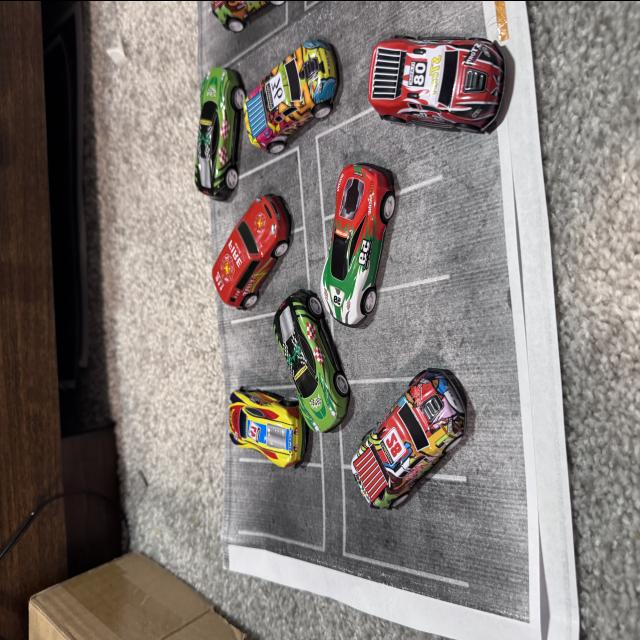car: (342, 13, 524, 163), (316, 152, 416, 376), (349, 360, 475, 536), (276, 257, 348, 443), (198, 187, 304, 309), (160, 66, 244, 218), (228, 44, 356, 140), (210, 369, 302, 478)
